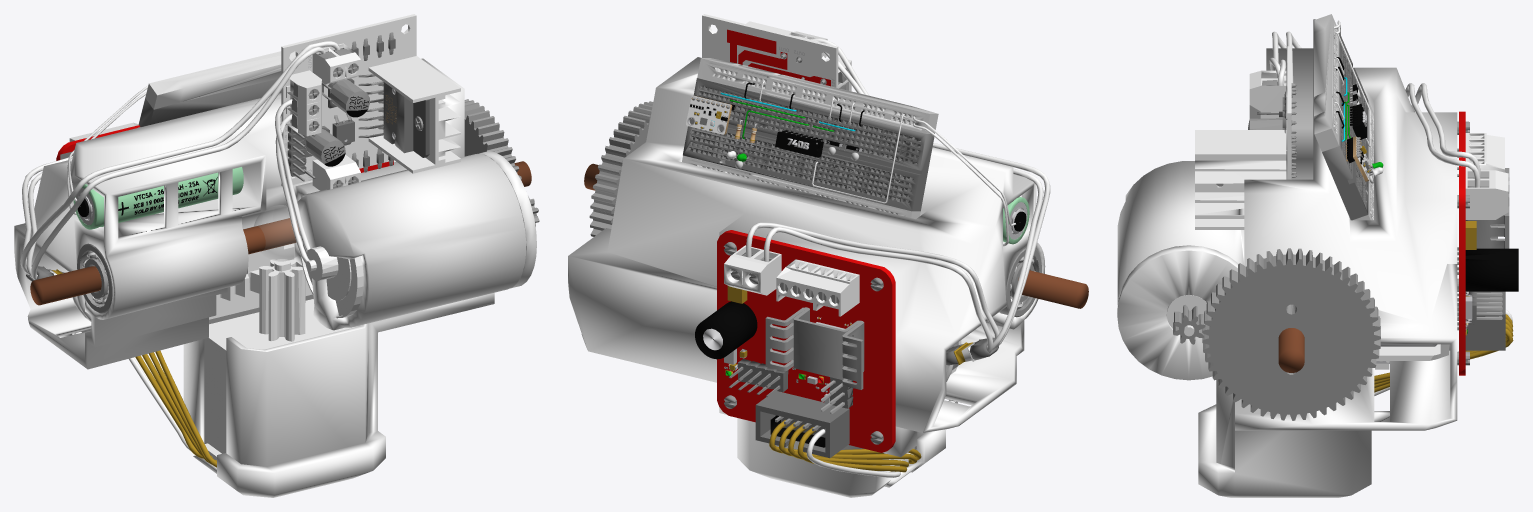
File: Kugel_rerender2.glb
3 views of the same model, side by side, from view 1: azimuth 30°, elevation 25°; view 2: azimuth 150°, elevation 25°; view 3: azimuth 270°, elevation 25° (orthographic). The views are drawn at different scales.
Parts seen in each view (by area): view 1: Motor halter, 4.003, 4, 5, 4.008, 2.001, 2, 3.003, 4.002, 1, 4.001, 3.002 (+5 smaller); view 2: Motor halter, 4.005, 4.008, 5, 4.003, 3.002, 4.009, 4.004, 3.003, 4.006, 1.002, 2 (+1 smaller); view 3: Motor halter, 3.002, 4.003, 3, 4.005, 4.008, 5, 4.009, 4.004, 4, 4.001, 3.003 (+3 smaller).
Boxes of the visible parts, x1,y1,x2,y2 form: Motor halter: (14, 58, 526, 497); 4.003: (281, 14, 460, 190); 4: (226, 323, 368, 466); 5: (20, 41, 340, 467); 4.008: (138, 51, 295, 127); 2.001: (204, 259, 353, 460); 2: (73, 167, 243, 229); 3.003: (30, 161, 531, 305); 4.002: (259, 259, 305, 341); 1: (299, 207, 536, 318); 4.001: (209, 243, 313, 324); 3.002: (464, 99, 521, 179); Motor halter: (568, 57, 1045, 497); 4.005: (703, 230, 895, 458); 4.008: (682, 58, 938, 219); 5: (746, 36, 1050, 477); 4.003: (702, 14, 851, 91); 3.002: (589, 101, 653, 236); 4.009: (695, 242, 883, 444); 4.004: (720, 81, 904, 203); 3.003: (584, 163, 1088, 308); 4.006: (686, 95, 734, 134); 1.002: (999, 248, 1041, 317); 2: (1003, 196, 1029, 244); Motor halter: (1117, 19, 1457, 497); 3.002: (1202, 248, 1380, 420); 4.003: (1195, 46, 1297, 229); 3: (1117, 245, 1238, 380); 4.005: (1457, 111, 1509, 375); 4.008: (1314, 14, 1373, 220); 5: (1269, 20, 1513, 395); 4.009: (1457, 121, 1518, 365); 4.004: (1334, 31, 1383, 183); 4: (1216, 379, 1234, 468); 4.001: (1375, 344, 1448, 369); 3.003: (1278, 328, 1304, 372).
Size of the model in its own units: 1.74 by 1.41 by 1.2.
